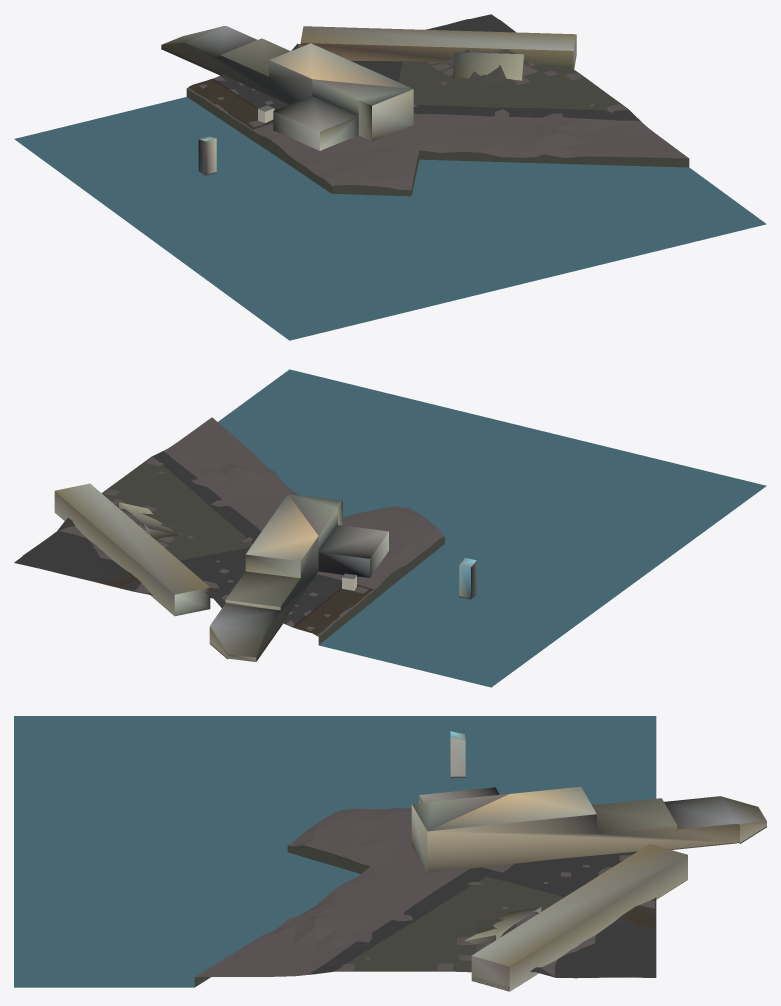
3 views of the same model, one above another, from view 1: azimuth 30°, elevation 25°; view 2: azimuth 150°, elevation 25°; view 3: azimuth 270°, elevation 25° (orthographic). The views are drawn at different scales.
Visible parts, largest first — view 1: c_p02_p02; view 2: c_p02_p02; view 3: c_p02_p02.
Boxes of the visible parts, <box> form: c_p02_p02: <box>14,14,766,340</box>; c_p02_p02: <box>14,369,766,687</box>; c_p02_p02: <box>14,716,766,991</box>.
Size of the model in its own units: 134 by 12.35 by 150.
